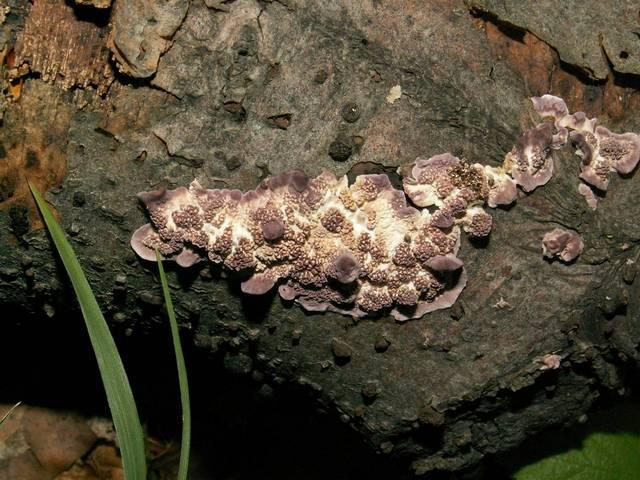poisonous_mushroom: (129, 92, 639, 321)
